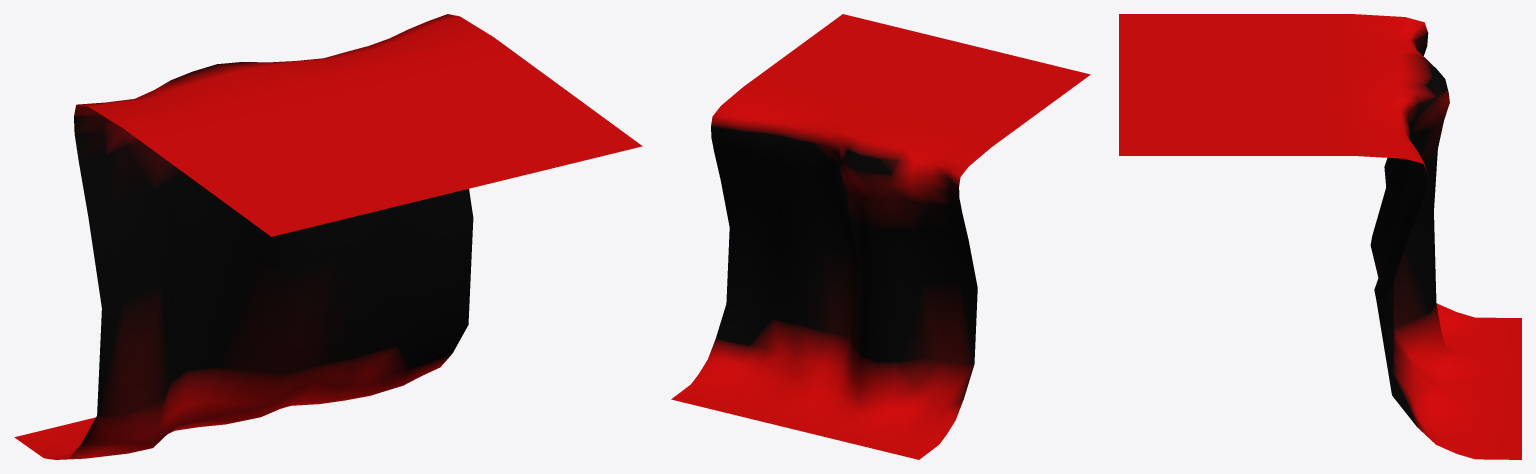
Rendered from GroundCliff00B 1M Foreground.fbx.
3 views of the same model, side by side, from view 1: azimuth 30°, elevation 25°; view 2: azimuth 150°, elevation 25°; view 3: azimuth 270°, elevation 25° (orthographic). The views are drawn at different scales.
Parts seen in each view (by area): view 1: GroundCliff00B 1M Foreground; view 2: GroundCliff00B 1M Foreground; view 3: GroundCliff00B 1M Foreground.
Part boxes in pixels (x1,y1,x2,y2): GroundCliff00B 1M Foreground: [14, 14, 642, 459]; GroundCliff00B 1M Foreground: [671, 14, 1090, 459]; GroundCliff00B 1M Foreground: [1119, 14, 1521, 459].
Size of the model in its own units: 1 by 1 by 1.2.
